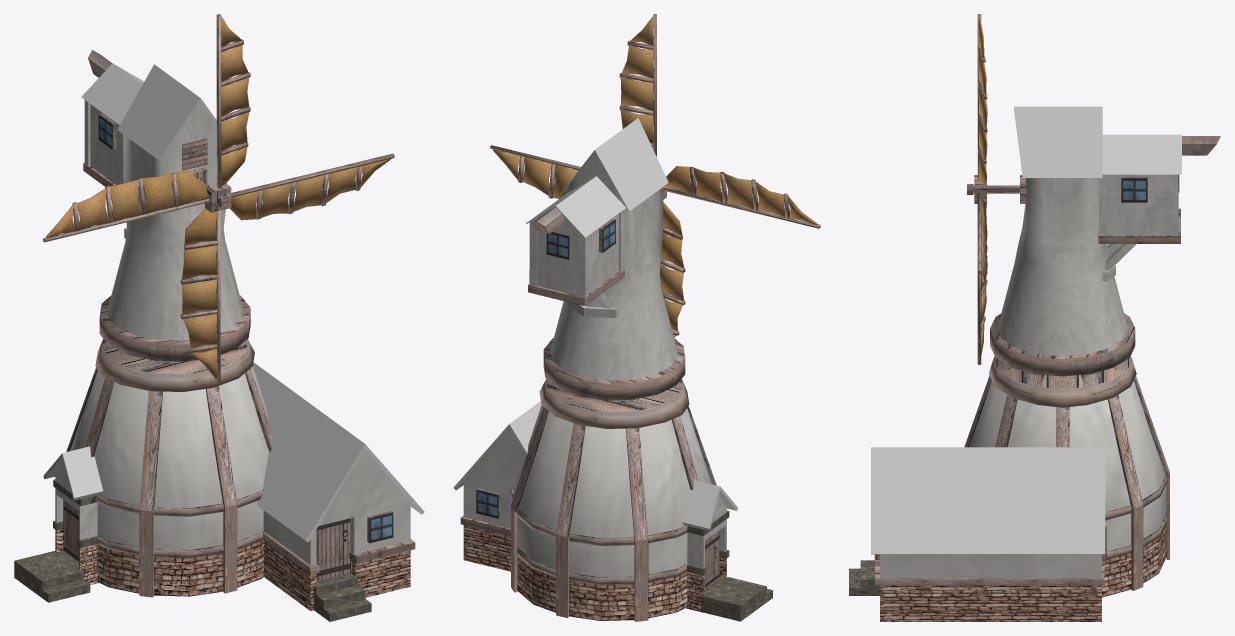
The model's file is WindmillUpload.fbx.
3 renders of one model, left to right at view 1: azimuth 30°, elevation 25°; view 2: azimuth 150°, elevation 25°; view 3: azimuth 270°, elevation 25°, orthographic. The views are drawn at different scales.
Visible parts, largest first — view 1: WindMillBottom, WindMillTop, WindMillWings; view 2: WindMillBottom, WindMillTop, WindMillWings; view 3: WindMillBottom, WindMillTop, WindMillWings.
Part boxes in pixels (<box>): WindMillBottom: <box>14,338,424,621</box>; WindMillTop: <box>81,50,250,361</box>; WindMillWings: <box>43,14,394,381</box>; WindMillBottom: <box>453,379,772,621</box>; WindMillTop: <box>526,118,685,400</box>; WindMillWings: <box>490,14,820,337</box>; WindMillBottom: <box>849,356,1169,621</box>; WindMillTop: <box>990,106,1220,376</box>; WindMillWings: <box>967,14,1019,364</box>.
Bounding box in the file's own units: 975 × 1516 × 939.
